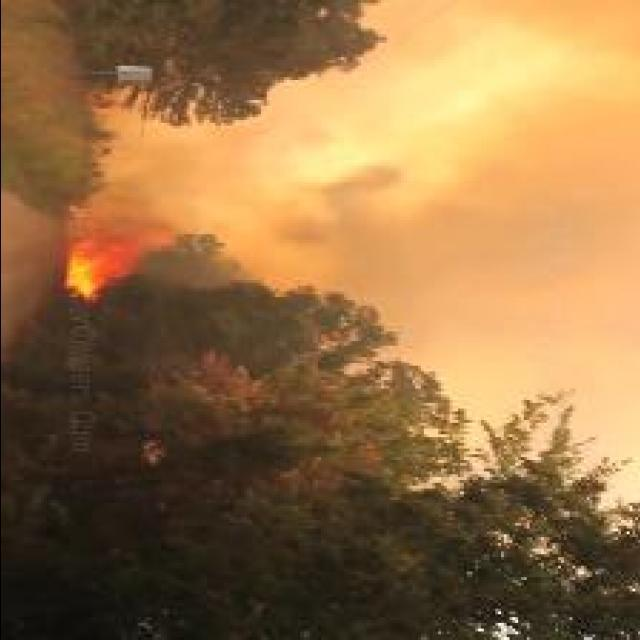Fire: (67, 230, 173, 304)
